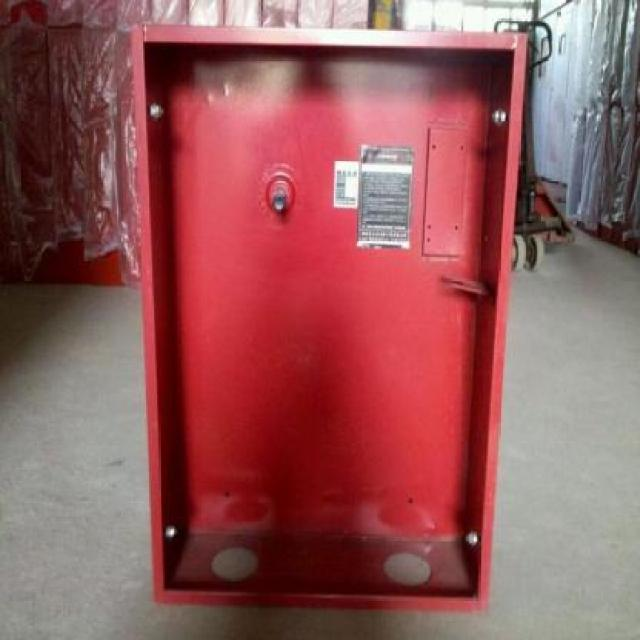firehydrant: (128, 17, 530, 616)
